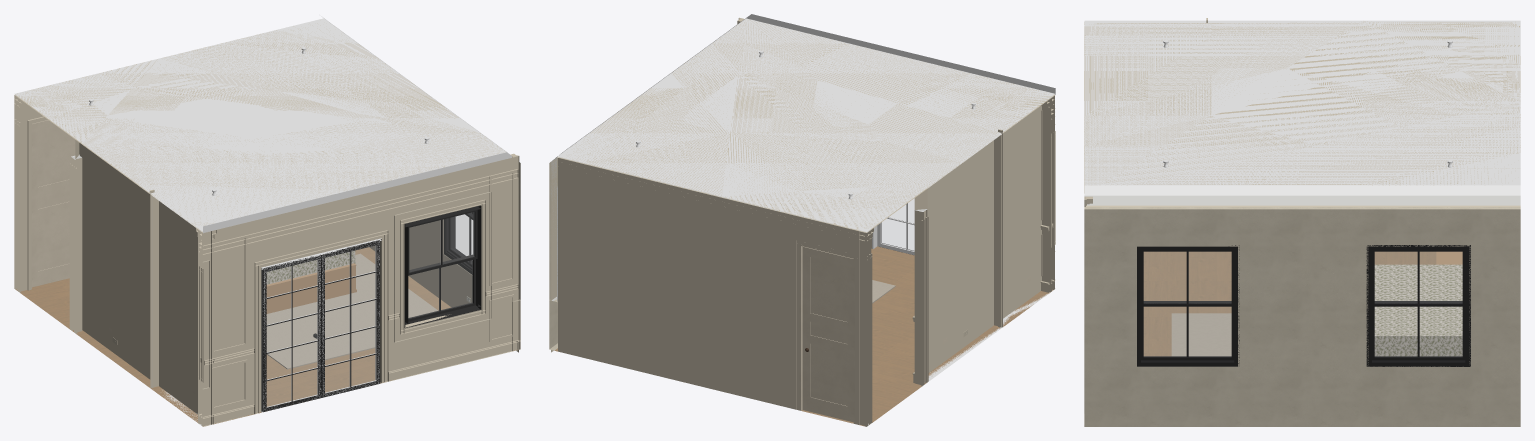
The model's file is primary-bedroom-8f8550567492.glb.
3 views of the same model, side by side, from view 1: azimuth 30°, elevation 25°; view 2: azimuth 150°, elevation 25°; view 3: azimuth 270°, elevation 25° (orthographic). The views are drawn at different scales.
Visible parts, largest first — view 1: primary-bedroom-9d91b47435c6fb33, primary-bedroom-b0ade14315e4f1c3, primary-bedroom-e8793759323e04f0, primary-bedroom-0987656e6ddb83c1, primary-bedroom-fc6585fecfaf7ec3, primary-bedroom-e1735639a83d20d7, primary-bedroom-c791a0f218fead78, primary-bedroom-b0dbeb16b2b245ed, primary-bedroom-2575515a05775d9e, primary-bedroom-b7a870a0f6b43c8c, primary-bedroom-b5339e4b2b15762b, primary-bedroom-16d9002bc6318568 (+16 smaller); view 2: primary-bedroom-9d91b47435c6fb33, primary-bedroom-21ac2ed1b4475155, primary-bedroom-e8793759323e04f0, primary-bedroom-fc6585fecfaf7ec3, primary-bedroom-b7a870a0f6b43c8c, primary-bedroom-c791a0f218fead78, primary-bedroom-2575515a05775d9e, primary-bedroom-b0ade14315e4f1c3, primary-bedroom-9ecc0d558be1c706, primary-bedroom-0987656e6ddb83c1, primary-bedroom-780708765654f3c3, primary-bedroom-30f9d475162e2dd8 (+2 smaller); view 3: primary-bedroom-9d91b47435c6fb33, primary-bedroom-adb6f49a6d2cbec3, primary-bedroom-e8793759323e04f0, primary-bedroom-16d9002bc6318568, primary-bedroom-91f952a1d198b4a4, primary-bedroom-f5a37a5545b9d676, primary-bedroom-2575515a05775d9e, primary-bedroom-271b5defbbab7ecd, primary-bedroom-791abe15be22adf2, primary-bedroom-b0dbeb16b2b245ed, primary-bedroom-b460fc15d15b0bb4, primary-bedroom-30f9d475162e2dd8.
Part boxes in pixels (x1,y1,x2,y2): primary-bedroom-9d91b47435c6fb33: [14, 18, 511, 232]; primary-bedroom-b0ade14315e4f1c3: [198, 155, 519, 426]; primary-bedroom-e8793759323e04f0: [17, 16, 511, 231]; primary-bedroom-0987656e6ddb83c1: [261, 238, 381, 412]; primary-bedroom-fc6585fecfaf7ec3: [75, 140, 158, 387]; primary-bedroom-e1735639a83d20d7: [404, 205, 481, 328]; primary-bedroom-c791a0f218fead78: [151, 194, 211, 425]; primary-bedroom-b0dbeb16b2b245ed: [266, 253, 437, 369]; primary-bedroom-2575515a05775d9e: [15, 247, 518, 426]; primary-bedroom-b7a870a0f6b43c8c: [32, 120, 75, 287]; primary-bedroom-b5339e4b2b15762b: [202, 169, 518, 254]; primary-bedroom-16d9002bc6318568: [369, 227, 520, 349]; primary-bedroom-9d91b47435c6fb33: [557, 18, 1055, 232]; primary-bedroom-21ac2ed1b4475155: [558, 157, 871, 426]; primary-bedroom-e8793759323e04f0: [561, 14, 1055, 229]; primary-bedroom-fc6585fecfaf7ec3: [914, 134, 1002, 382]; primary-bedroom-b7a870a0f6b43c8c: [802, 246, 853, 422]; primary-bedroom-c791a0f218fead78: [994, 106, 1052, 327]; primary-bedroom-2575515a05775d9e: [551, 246, 1053, 426]; primary-bedroom-b0ade14315e4f1c3: [738, 17, 1054, 292]; primary-bedroom-9ecc0d558be1c706: [914, 209, 927, 384]; primary-bedroom-0987656e6ddb83c1: [872, 199, 914, 255]; primary-bedroom-780708765654f3c3: [799, 244, 854, 423]; primary-bedroom-30f9d475162e2dd8: [550, 158, 556, 300]; primary-bedroom-9d91b47435c6fb33: [1084, 20, 1520, 195]; primary-bedroom-adb6f49a6d2cbec3: [1084, 207, 1520, 367]; primary-bedroom-e8793759323e04f0: [1084, 21, 1520, 194]; primary-bedroom-16d9002bc6318568: [1086, 367, 1520, 424]; primary-bedroom-91f952a1d198b4a4: [1366, 245, 1470, 366]; primary-bedroom-f5a37a5545b9d676: [1137, 245, 1239, 366]; primary-bedroom-2575515a05775d9e: [1084, 251, 1520, 426]; primary-bedroom-271b5defbbab7ecd: [1374, 264, 1462, 336]; primary-bedroom-791abe15be22adf2: [1084, 195, 1520, 205]; primary-bedroom-b0dbeb16b2b245ed: [1171, 313, 1231, 356]; primary-bedroom-b460fc15d15b0bb4: [1374, 337, 1462, 356]; primary-bedroom-30f9d475162e2dd8: [1086, 205, 1520, 206].
Bounding box in the file's own units: 4.97 × 3.04 × 5.11.
Materials: 31 (6 with a texture image).
